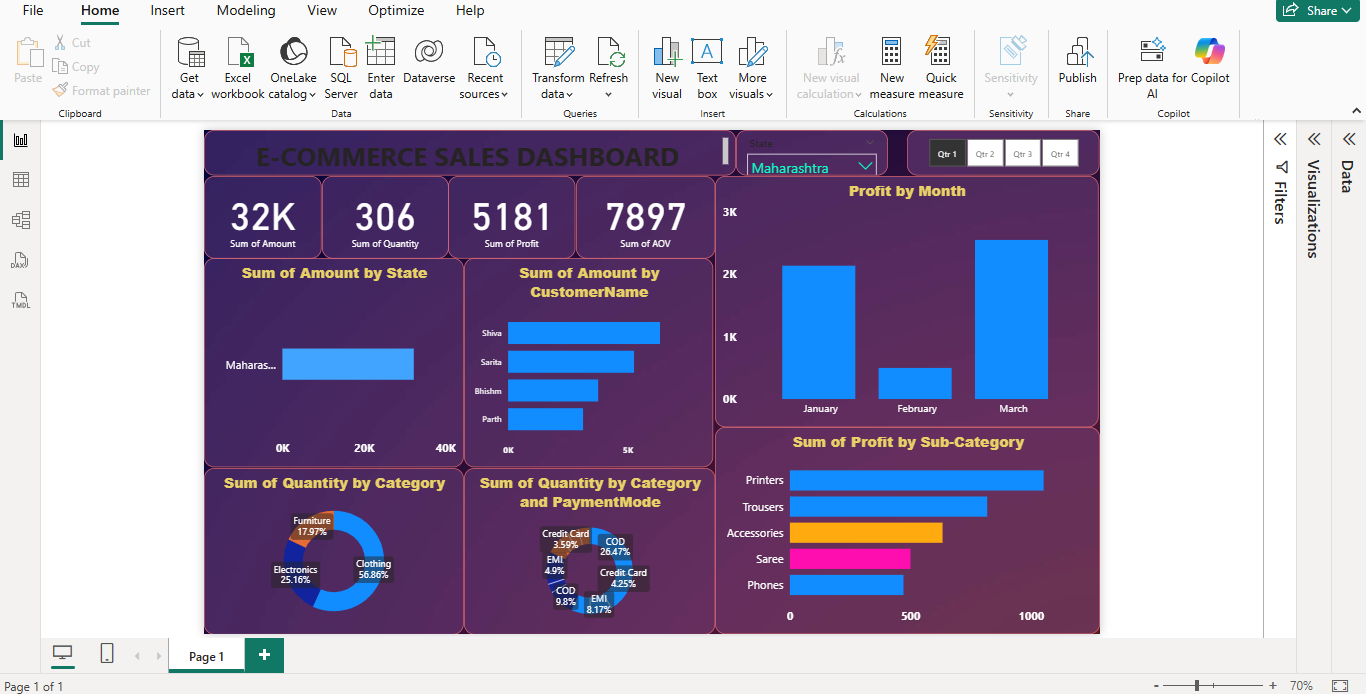

What the dashboard file says about the page in this screenshot:
{"tool":"powerbi","page":{"name":"Page 1","canvas":[1280,720],"ordinal":0},"visuals":[{"type":"textbox","box":[0,0,760.3,65.3],"z":0},{"type":"columnChart","title":"Profit by Month","fields":{"Category":["Orders.Order Date.Variation.Date Hierarchy.Month"],"Y":["Sum(Details.Profit)"]},"box":[729.7,65.3,547.6,358.6],"z":1000},{"type":"barChart","fields":{"Category":["Details.Sub-Category"],"Y":["Sum(Details.Profit)"]},"box":[729.7,423.9,550.4,296.1],"z":2000},{"type":"donutChart","fields":{"Category":["Details.Category"],"Y":["Sum(Details.Quantity)"]},"box":[0,482.3,371.1,237.7],"z":3000},{"type":"donutChart","fields":{"Category":["Details.Category"],"Y":["Sum(Details.Quantity)"],"Series":["Details.PaymentMode"]},"box":[371.1,482.3,358.6,237.7],"z":4000},{"type":"card","fields":{"Values":["Sum(Details.Amount)"]},"box":[0,65.3,168.2,118.1],"z":5000},{"type":"card","fields":{"Values":["Sum(Details.Quantity)"]},"box":[168.2,65.3,180.7,118.1],"z":6000},{"type":"card","fields":{"Values":["Sum(Details.Profit)"]},"box":[348.9,65.3,182.1,118.1],"z":7000},{"type":"card","fields":{"Values":["Sum(Details.AOV)"]},"box":[531,65.3,198.8,118.1],"z":8000},{"type":"barChart","fields":{"Category":["Orders.State"],"Y":["Sum(Details.Amount)"]},"box":[0,183.5,371.1,298.8],"z":9000},{"type":"barChart","fields":{"Category":["Orders.CustomerName"],"Y":["Sum(Details.Amount)"]},"box":[371.1,183.5,355.8,298.8],"z":10000},{"type":"slicer","fields":{"Values":["Orders.Order Date.Variation.Date Hierarchy.Quarter"]},"box":[1004.9,0,275.2,65.3],"z":11000},{"type":"slicer","fields":{"Values":["Orders.State"]},"box":[760.3,0,216.8,65.3],"z":12000}]}

Visuals, with their boxes on the page's 1280x720 design canvas (x1, y1, x2, y2). These are canvas units, not pixel positions in the 1366x694 screenshot, which may show the page scaled, cropped or inside an application window:
textbox: [0, 0, 760, 65]
"Profit by Month" columnChart: [730, 65, 1277, 424]
barChart - Details.Sub-Category x Sum(Details.Profit): [730, 424, 1280, 720]
donutChart - Details.Category x Sum(Details.Quantity): [0, 482, 371, 720]
donutChart - Details.Category x Sum(Details.Quantity): [371, 482, 730, 720]
card - Sum(Details.Amount): [0, 65, 168, 183]
card - Sum(Details.Quantity): [168, 65, 349, 183]
card - Sum(Details.Profit): [349, 65, 531, 183]
card - Sum(Details.AOV): [531, 65, 730, 183]
barChart - Orders.State x Sum(Details.Amount): [0, 184, 371, 482]
barChart - Orders.CustomerName x Sum(Details.Amount): [371, 184, 727, 482]
slicer - Orders.Order Date.Variation.Date Hierarchy.Quarter: [1005, 0, 1280, 65]
slicer - Orders.State: [760, 0, 977, 65]
